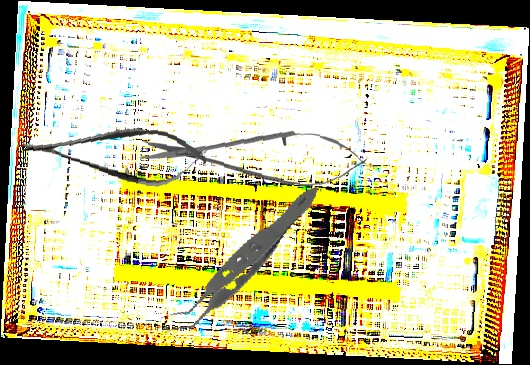Micro Scissor: (137, 121, 369, 191), (19, 115, 209, 192)
Tissue Forceps: (135, 185, 343, 336)
